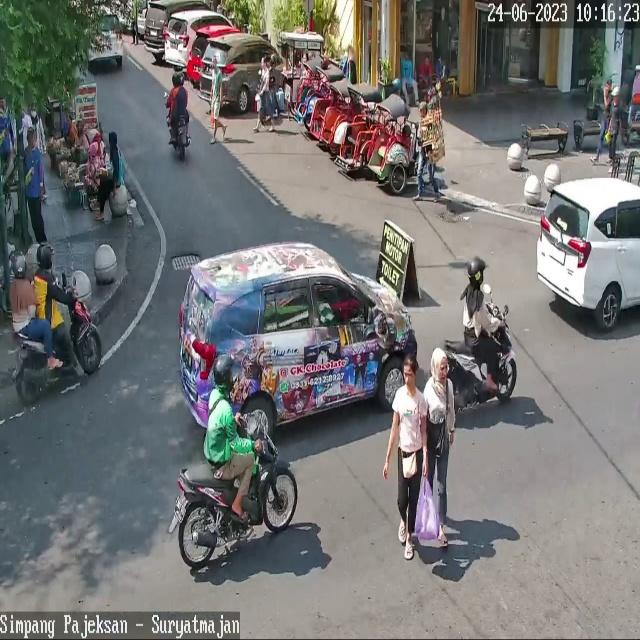bus: (177, 414, 298, 569), (12, 278, 102, 405), (443, 303, 518, 412), (174, 114, 192, 161)
motorcycle: (179, 243, 418, 439), (535, 178, 640, 330), (201, 34, 281, 113), (164, 9, 233, 67), (144, 0, 212, 54), (186, 24, 242, 82), (87, 6, 124, 71)
